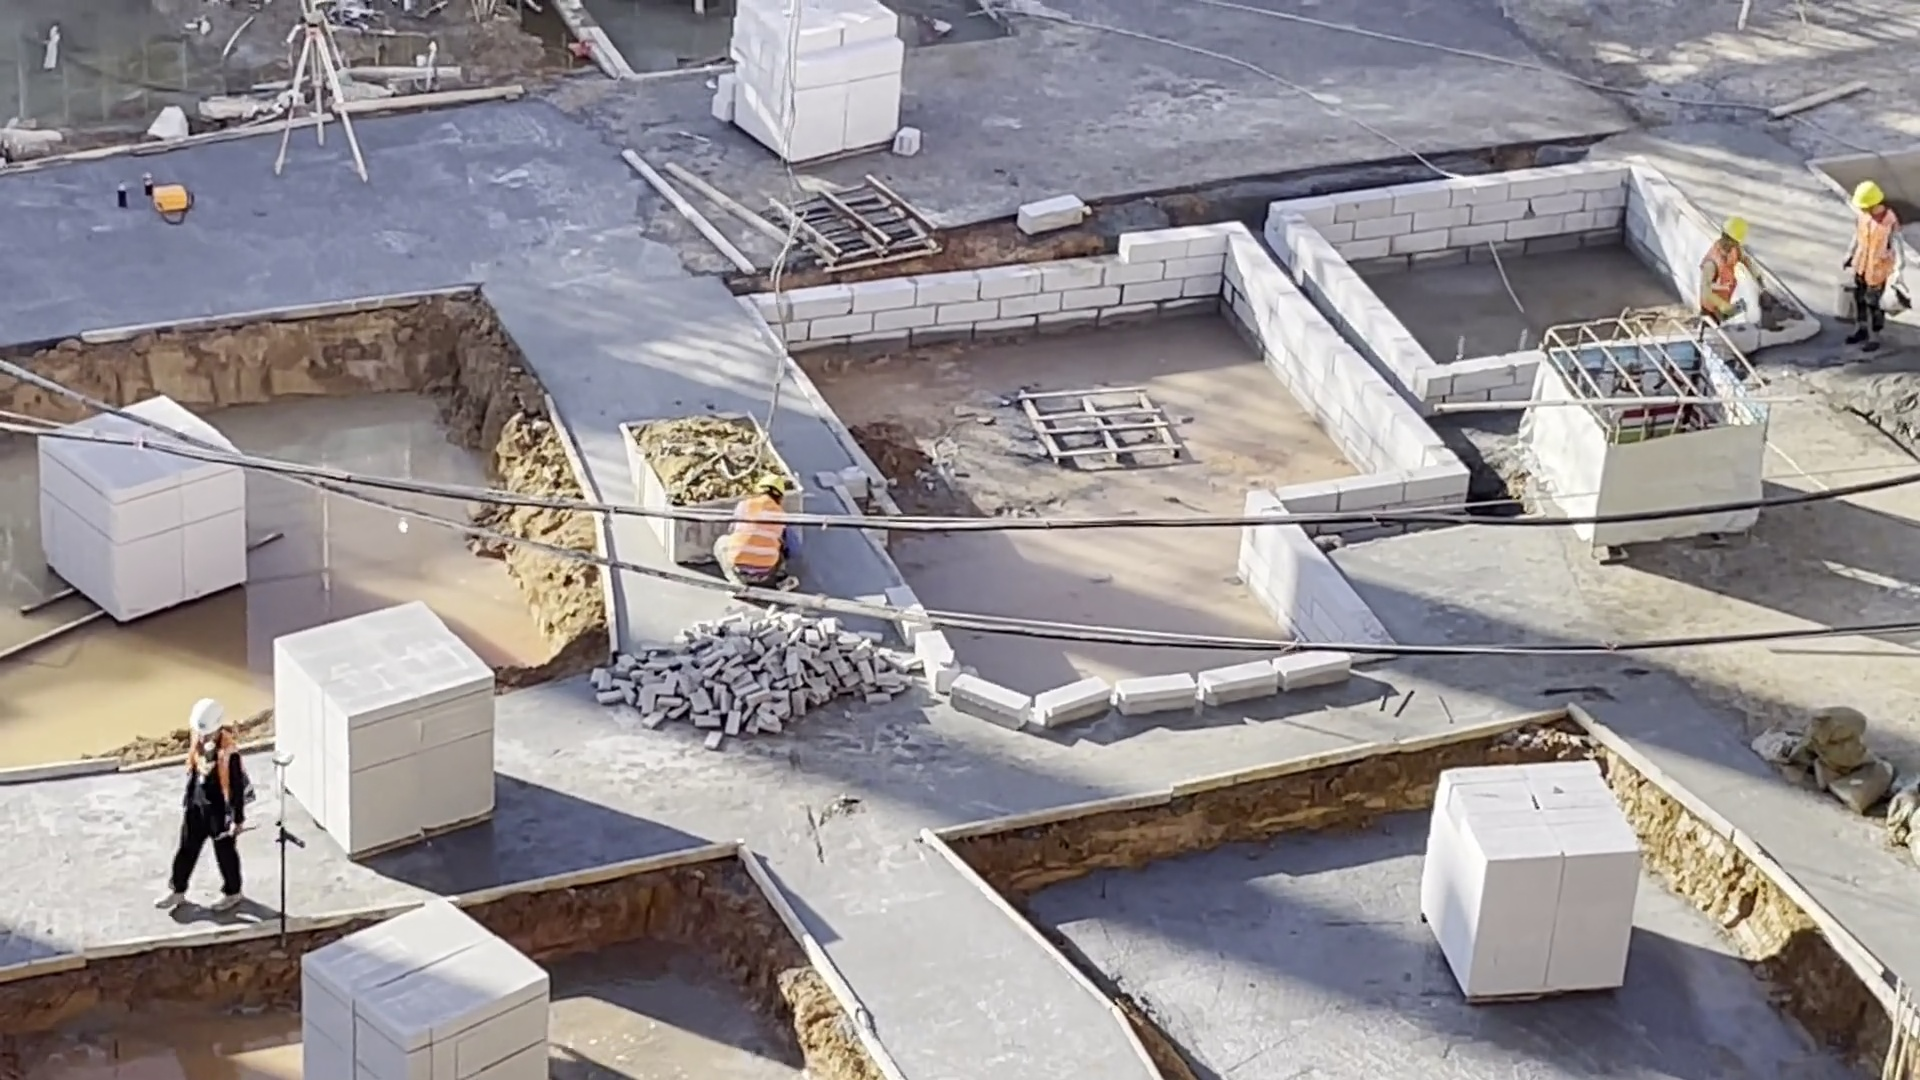brick: (268, 600, 501, 852), (1423, 758, 1647, 1006), (302, 894, 561, 1080), (34, 467, 249, 623), (702, 1, 898, 165)
helmet: (182, 698, 231, 732), (1850, 179, 1885, 209), (1719, 215, 1751, 244), (754, 472, 789, 498)
hopper: (607, 411, 715, 501)
person: (1833, 178, 1908, 355), (1695, 211, 1769, 330)
vest: (154, 697, 260, 915), (704, 473, 800, 595), (185, 734, 256, 810), (1851, 211, 1896, 291), (723, 520, 784, 571), (1700, 246, 1739, 311)
